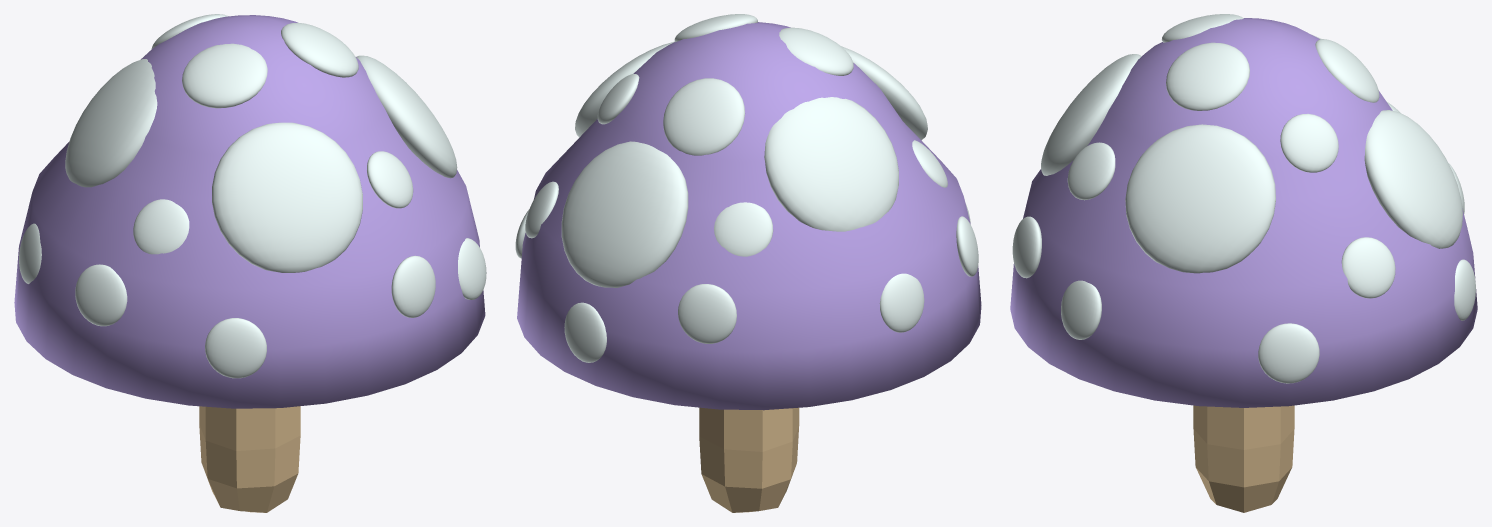
Rendered from purplemushroom.fbx.
The picture shows the model from 3 angles, left to right: view 1: azimuth 30°, elevation 25°; view 2: azimuth 150°, elevation 25°; view 3: azimuth 270°, elevation 25°; orthographic projection.
Parts seen in each view (by area): view 1: TopBase, Spot.002, Cube, Spot, Spot.004, Spot.009, Spot.015, Spot.008, Spot.019, Spot.006, Spot.012, Spot.007 (+3 smaller); view 2: TopBase, Spot.001, Spot, Cube, Spot.010, Spot.013, Spot.005, Spot.009, Spot.011, Spot.002, Spot.016, Spot.004 (+5 smaller); view 3: TopBase, Spot.004, Cube, Spot.001, Spot.008, Spot.002, Spot.017, Spot.003, Spot.018, Spot.007, Spot.010, Spot.014 (+3 smaller).
Part boxes in pixels (x1=…): TopBase: x1=14, y1=15, x2=485, y2=408; Spot.002: x1=212, y1=122, x2=362, y2=272; Cube: x1=199, y1=406, x2=300, y2=512; Spot: x1=65, y1=59, x2=157, y2=187; Spot.004: x1=356, y1=55, x2=457, y2=178; Spot.009: x1=182, y1=43, x2=267, y2=108; Spot.015: x1=205, y1=318, x2=266, y2=378; Spot.008: x1=281, y1=22, x2=358, y2=77; Spot.019: x1=75, y1=264, x2=127, y2=326; Spot.006: x1=133, y1=199, x2=189, y2=254; Spot.012: x1=391, y1=255, x2=435, y2=317; Spot.007: x1=367, y1=151, x2=413, y2=208; TopBase: x1=517, y1=22, x2=981, y2=410; Spot.001: x1=561, y1=141, x2=688, y2=287; Spot: x1=764, y1=97, x2=898, y2=231; Cube: x1=699, y1=407, x2=799, y2=512; Spot.010: x1=663, y1=78, x2=745, y2=155; Spot.013: x1=678, y1=284, x2=736, y2=343; Spot.005: x1=714, y1=202, x2=773, y2=256; Spot.009: x1=779, y1=27, x2=853, y2=75; Spot.011: x1=879, y1=273, x2=924, y2=332; Spot.002: x1=841, y1=46, x2=927, y2=139; Spot.016: x1=564, y1=302, x2=606, y2=362; Spot.004: x1=575, y1=41, x2=674, y2=137; TopBase: x1=1010, y1=18, x2=1477, y2=407; Spot.004: x1=1125, y1=124, x2=1275, y2=273; Cube: x1=1193, y1=405, x2=1294, y2=512; Spot.001: x1=1364, y1=110, x2=1462, y2=248; Spot.008: x1=1166, y1=42, x2=1249, y2=110; Spot.002: x1=1041, y1=54, x2=1141, y2=175; Spot.017: x1=1258, y1=323, x2=1319, y2=383; Spot.003: x1=1280, y1=113, x2=1338, y2=172; Spot.018: x1=1341, y1=237, x2=1395, y2=298; Spot.007: x1=1067, y1=142, x2=1115, y2=200; Spot.010: x1=1315, y1=39, x2=1379, y2=102; Spot.014: x1=1061, y1=280, x2=1101, y2=339.
Size of the model in its own units: 202 by 226 by 200.
